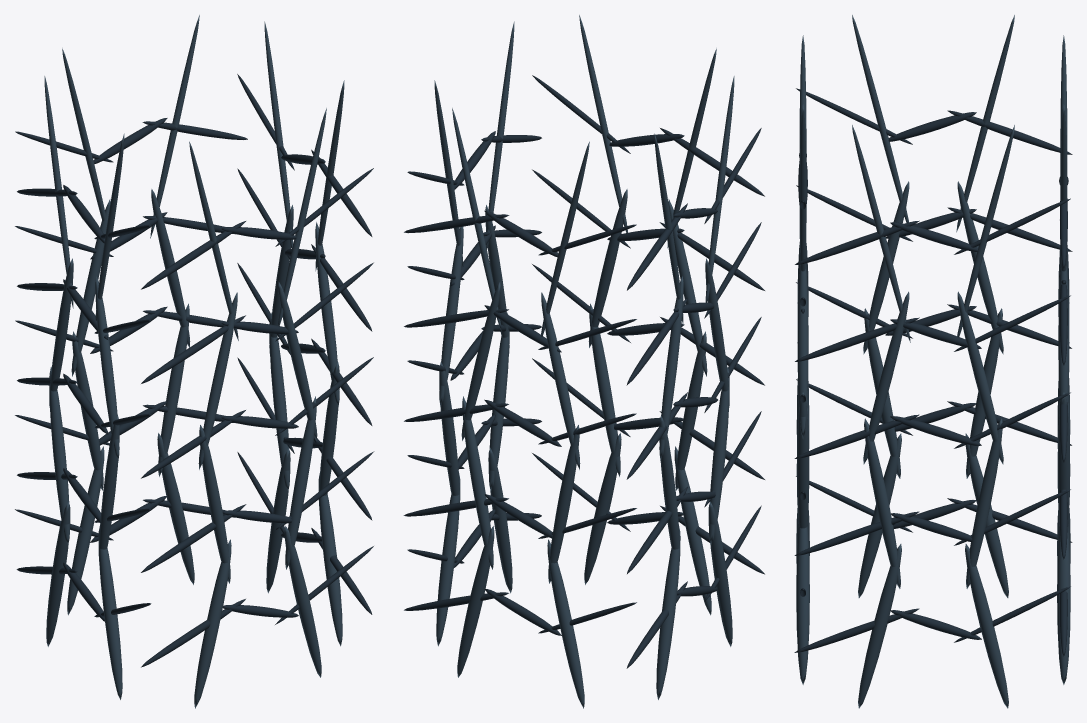
The model's file is CMU3DHiveXenoWeedsWall.glb.
3 renders of one model, left to right at view 1: azimuth 30°, elevation 25°; view 2: azimuth 150°, elevation 25°; view 3: azimuth 270°, elevation 25°, orthographic. The views are drawn at different scales.
Visible parts, largest first — view 1: climbing root (×32), climbing root fork (×15); view 2: climbing root (×32), climbing root fork (×18); view 3: climbing root (×26), climbing root fork (×34).
Part boxes in pixels (<box>): climbing root (×32): <box>44,15,344,708</box>; climbing root fork (×15): <box>93,118,373,667</box>; climbing root (×32): <box>434,15,734,708</box>; climbing root fork (×18): <box>403,75,764,635</box>; climbing root (×26): <box>796,15,1070,708</box>; climbing root fork (×34): <box>794,88,1072,656</box>.
Bounding box in the file's own units: 1.09 × 2.53 × 1.09.
